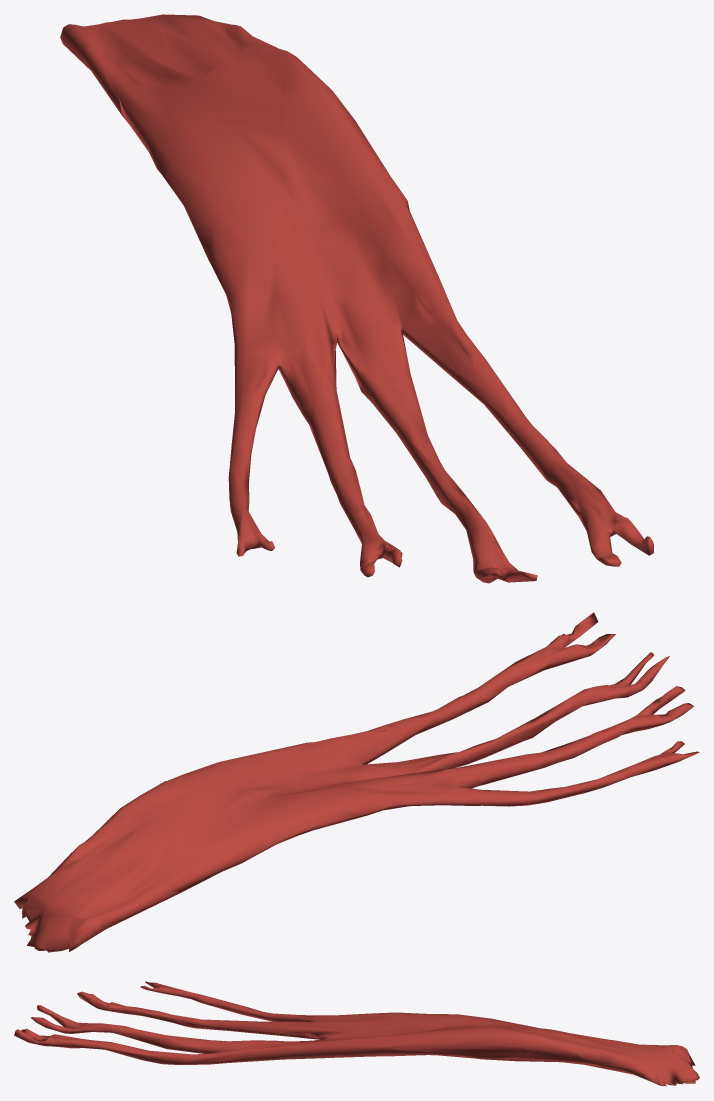
Rendered from musculos-flexor-digitorum-brevis-r.glb.
3 renders of one model, top to bottom at view 1: azimuth 30°, elevation 25°; view 2: azimuth 150°, elevation 25°; view 3: azimuth 270°, elevation 25°, orthographic. The views are drawn at different scales.
Parts seen in each view (by area): view 1: Flexor digitorum brevis.r; view 2: Flexor digitorum brevis.r; view 3: Flexor digitorum brevis.r.
Part boxes in pixels (<box>): Flexor digitorum brevis.r: <box>60,14,653,583</box>; Flexor digitorum brevis.r: <box>14,612,699,952</box>; Flexor digitorum brevis.r: <box>14,981,699,1086</box>.
Size of the model in its own units: 0.0784 by 0.02 by 0.188.
